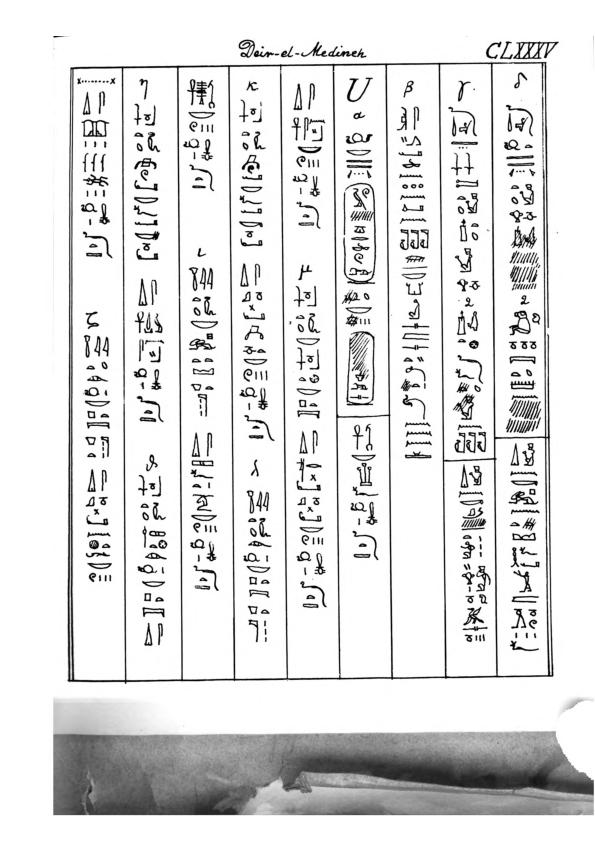circle: (341, 181, 378, 286), (343, 330, 379, 409)
